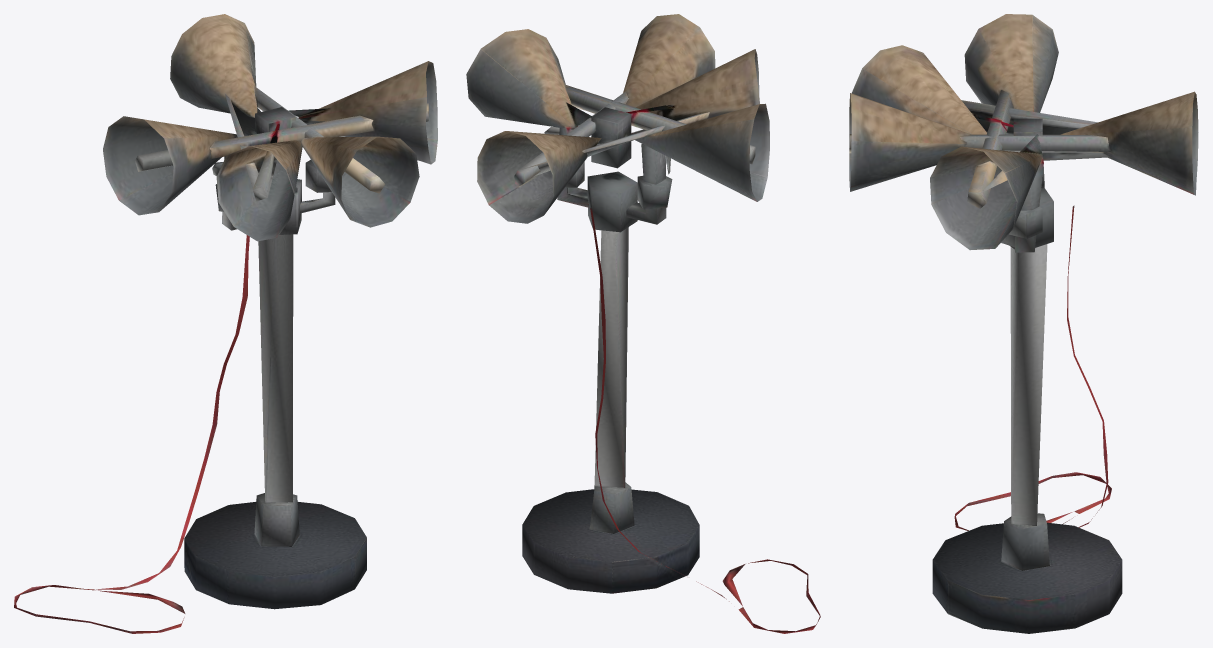
File: loudspeaker_horns.glb
3 renders of one model, left to right at view 1: azimuth 30°, elevation 25°; view 2: azimuth 150°, elevation 25°; view 3: azimuth 270°, elevation 25°, orthographic. The views are drawn at different scales.
Size of the model in its own units: 1.65 by 2 by 1.24.
Materials: 1 (1 with a texture image).
